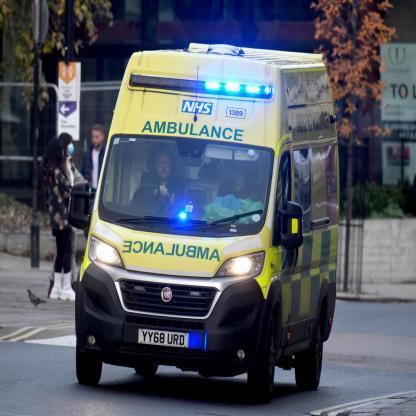Ambulance - v1 Ambulance last generate: (72, 43, 341, 405)
